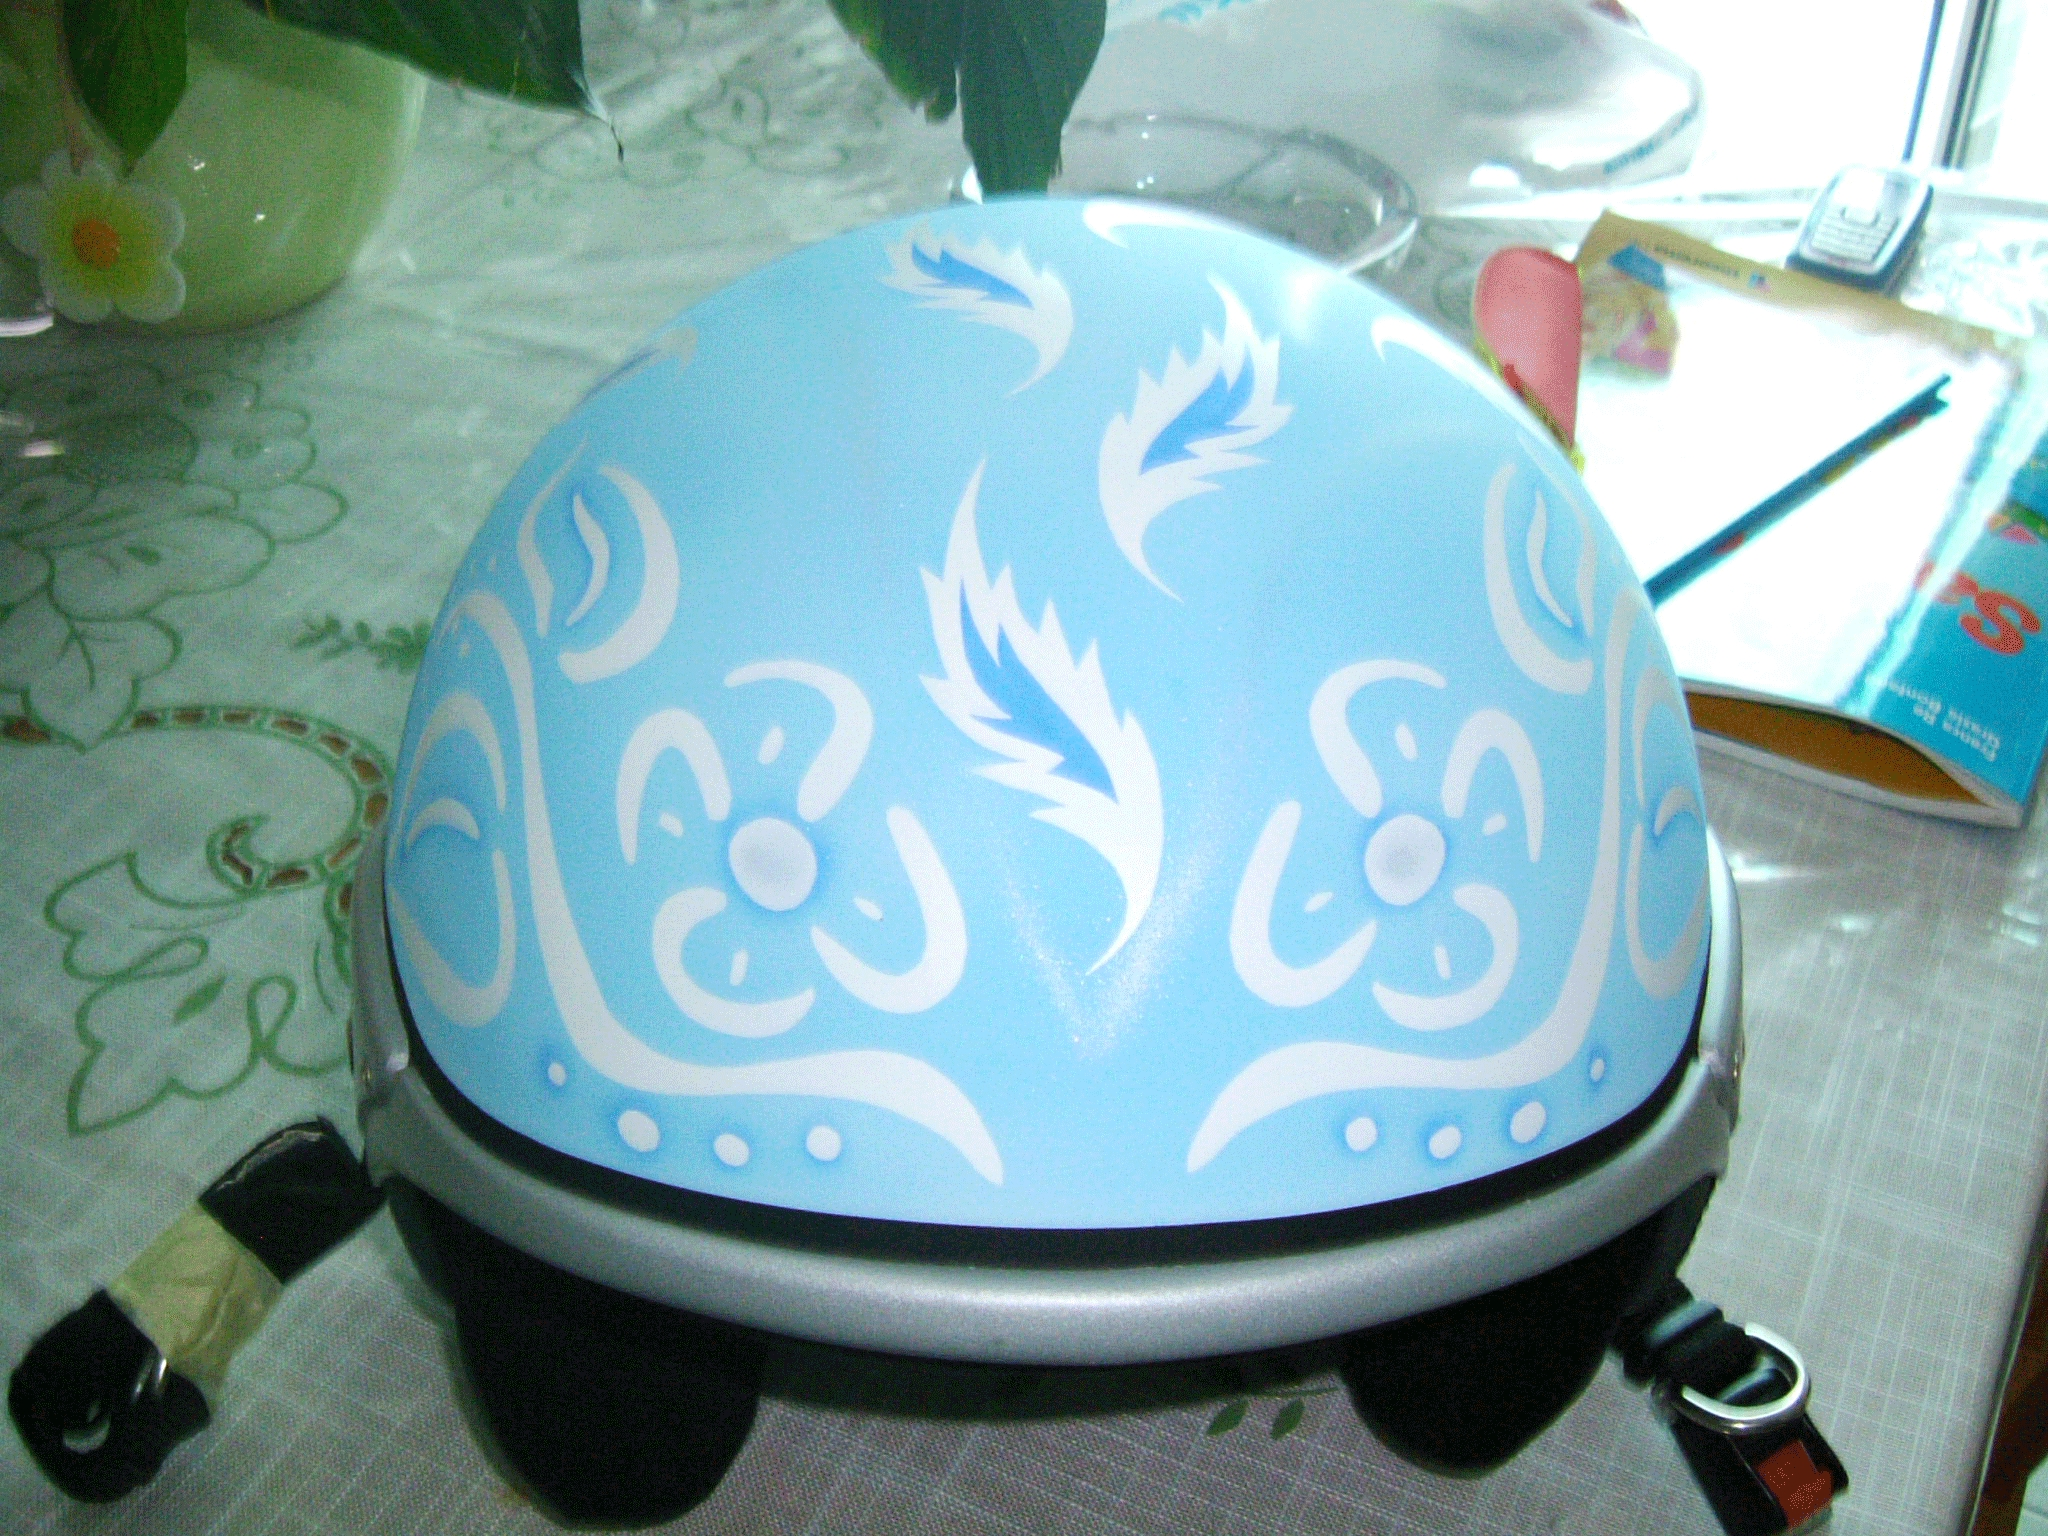helmet: (332, 237, 1811, 1313)
